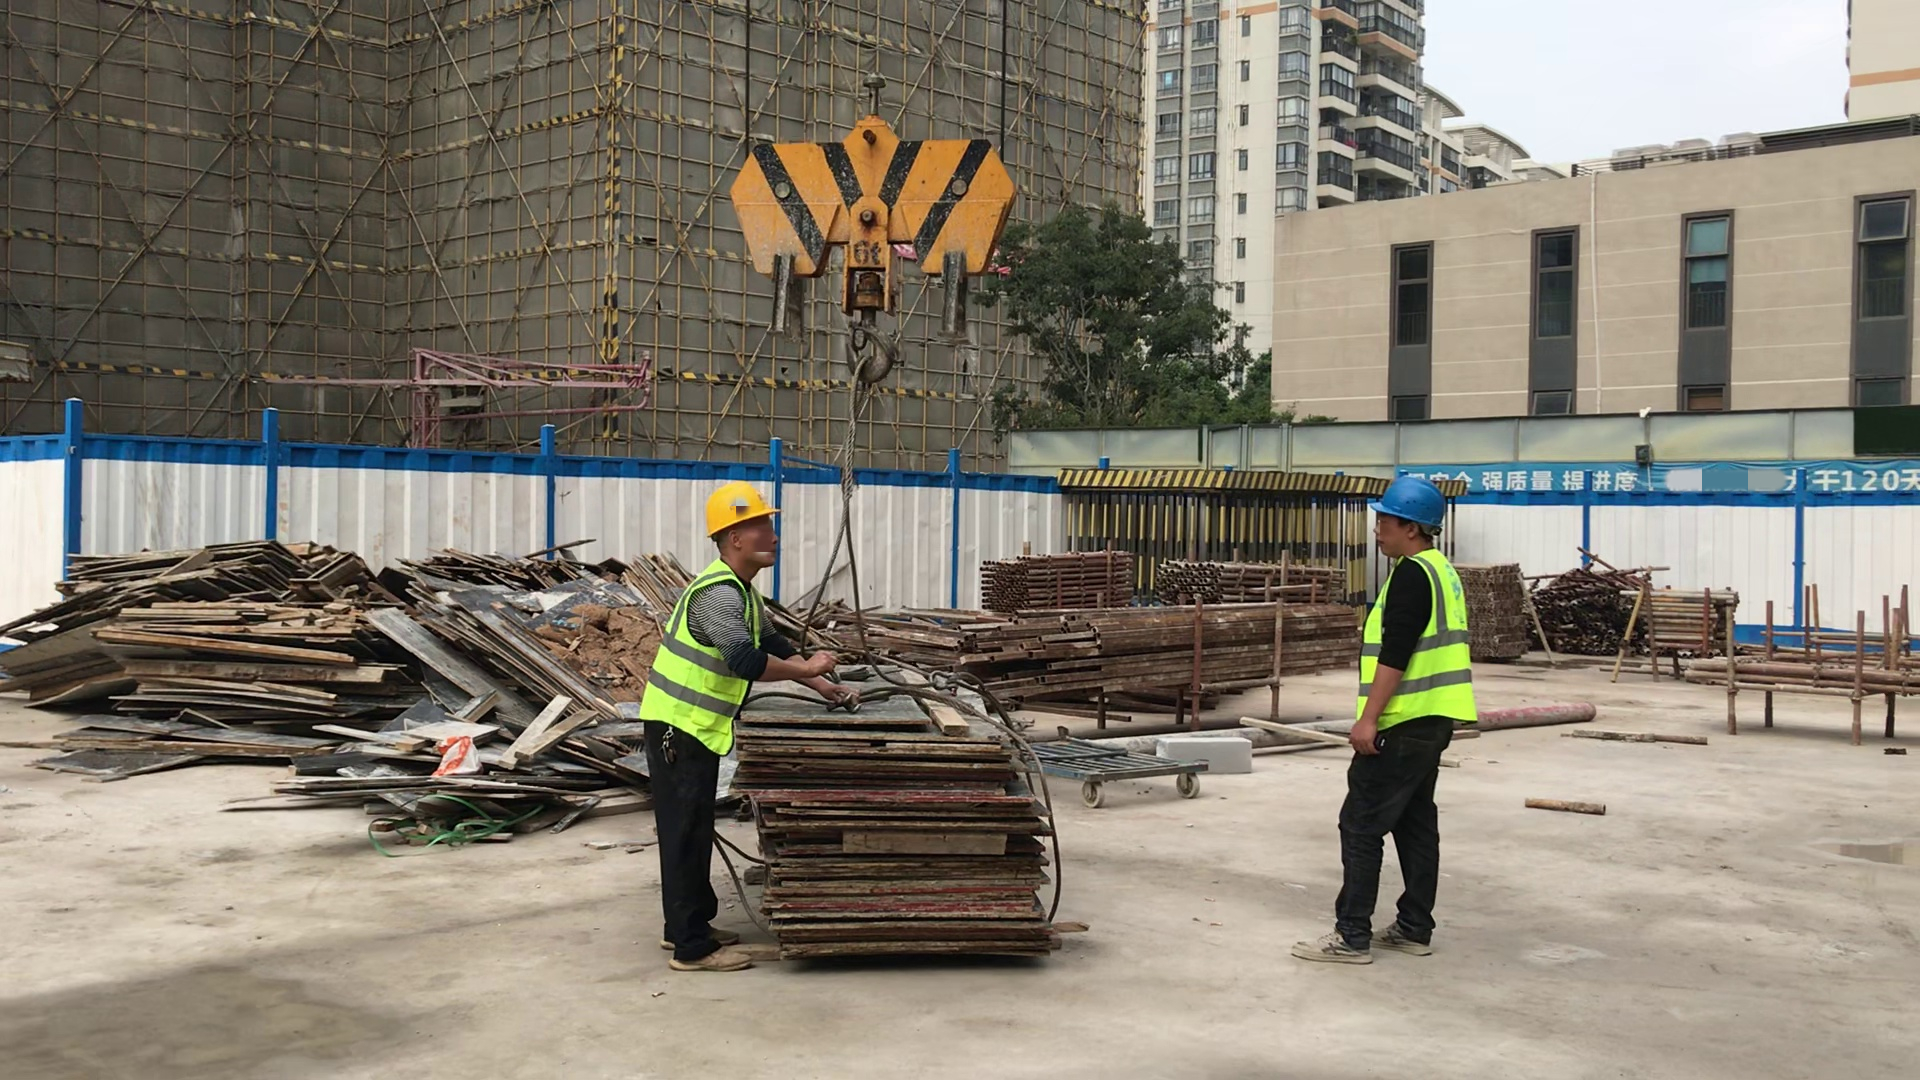board: (731, 706, 1083, 968)
helmet: (705, 480, 779, 537), (1371, 480, 1448, 532)
hook: (724, 113, 1013, 377)
person: (647, 482, 845, 978), (1292, 480, 1463, 964)
scaffold: (987, 548, 1135, 608), (1163, 559, 1340, 605), (1463, 568, 1522, 659), (1636, 592, 1724, 648)
slogan: (1406, 469, 1917, 495)
vest: (1361, 546, 1477, 749), (648, 556, 758, 757)
